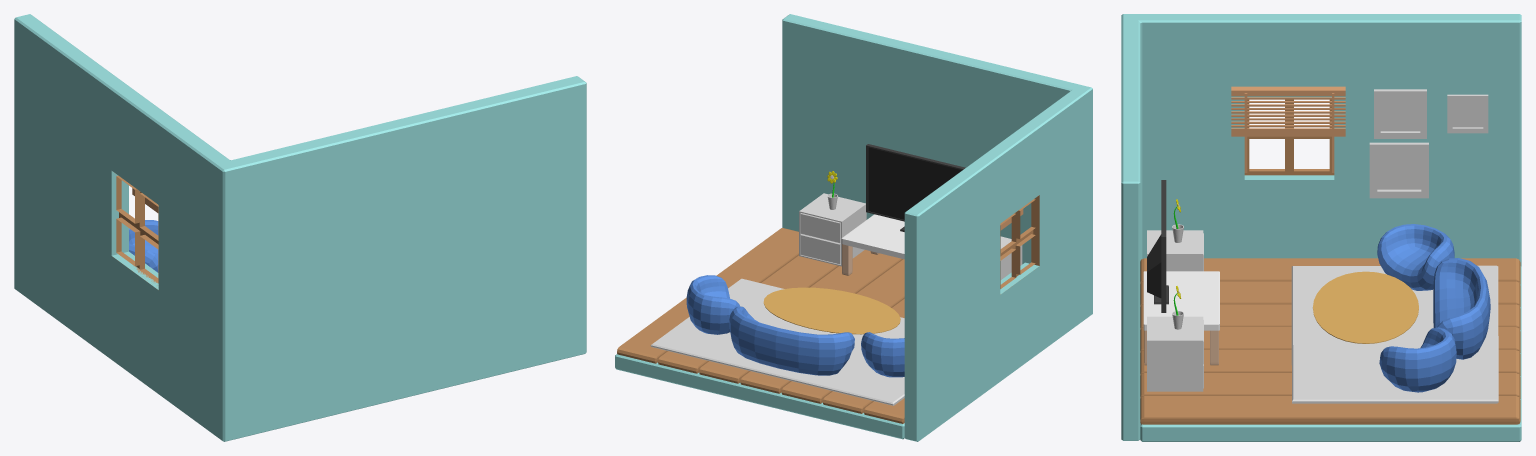
Rendered from room +70%.fbx.
3 renders of one model, left to right at view 1: azimuth 30°, elevation 25°; view 2: azimuth 150°, elevation 25°; view 3: azimuth 270°, elevation 25°, orthographic. The views are drawn at different scales.
Visible parts, largest first — view 1: Wall.001, Cube.002, Cube; view 2: Wall.001, Wood floor 1.001, Plane.001, Cube.001, Circle, Floor.001, Cube.006, Cube, Cube.019, Table 1.002, Cube.002; view 3: Wall.001, Wood floor 1.001, Plane.001, Floor.001, Cube, Circle, Cube.007, Cube.001, Cube.019, Table 1.002, Cube.023, Cube.021 (+4 smaller).
Part boxes in pixels (x1,y1,x2,y2): Wall.001: (14,14,586,441); Cube.002: (113,173,158,285); Cube: (129,220,158,272); Wall.001: (782,14,1092,441); Wood floor 1.001: (617,228,904,423); Plane.001: (650,278,904,405); Cube.001: (729,306,854,375); Circle: (763,287,900,334); Floor.001: (615,354,904,439); Cube.006: (866,144,965,231); Cube: (686,275,904,377); Cube.019: (799,193,866,266); Table 1.002: (841,214,904,275); Cube.002: (1000,195,1039,294); Wall.001: (1121,14,1521,440); Wood floor 1.001: (1140,258,1520,424); Plane.001: (1291,265,1498,403); Floor.001: (1140,266,1521,441); Cube: (1377,224,1456,392); Circle: (1312,271,1418,343); Cube.007: (1231,86,1345,172); Cube.001: (1433,258,1490,359); Cube.019: (1147,316,1203,391); Table 1.002: (1143,271,1219,365); Cube.023: (1369,142,1428,198); Cube.021: (1374,89,1426,138).
Bounding box in the file's own units: 134 × 96.06 × 134.
